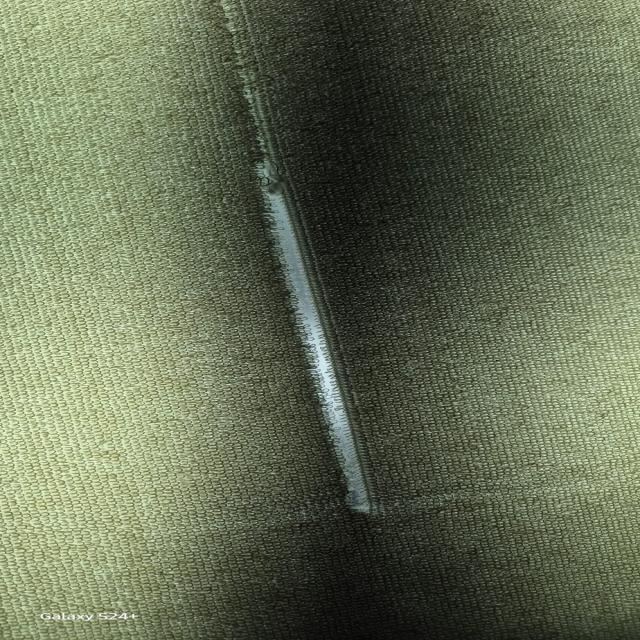Warp_Weft: (198, 0, 387, 511)
